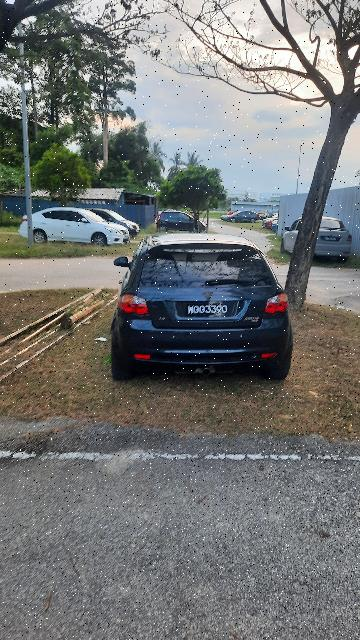License_Plate: (179, 299, 240, 319)
car: (104, 234, 294, 384)
